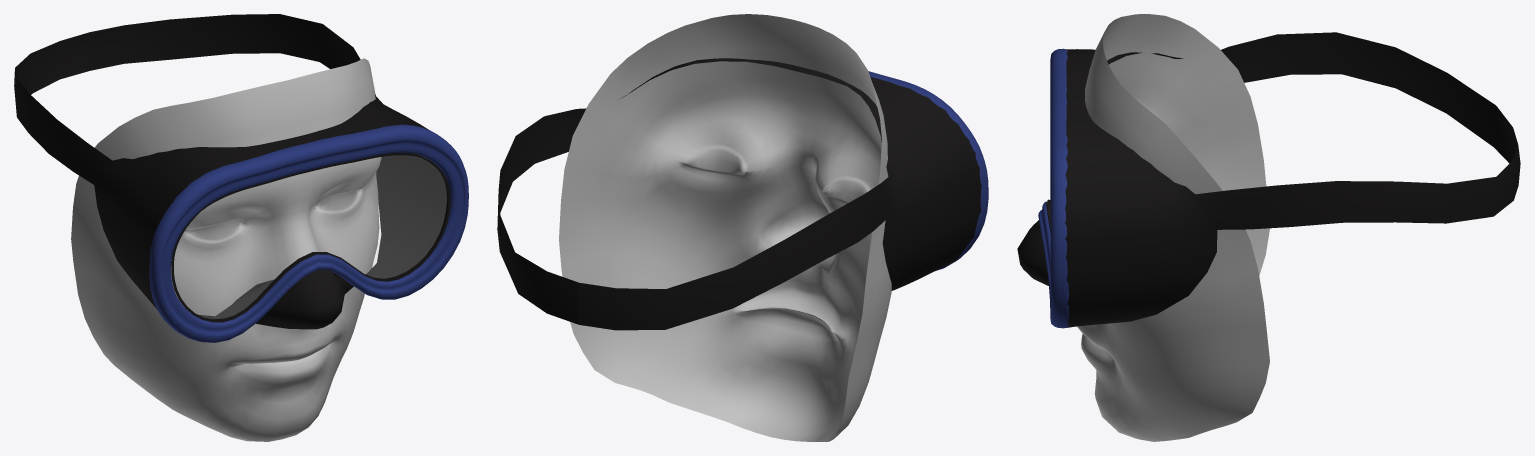
Rendered from snorkel_mask_for_spark_ar.glb.
3 views of the same model, side by side, from view 1: azimuth 30°, elevation 25°; view 2: azimuth 150°, elevation 25°; view 3: azimuth 270°, elevation 25° (orthographic). The views are drawn at different scales.
Visible parts, largest first — view 1: Mesh_lambert1_0, MSH_Nose, MSH_Glass, MSH_Color, MSH_Border; view 2: Mesh_lambert1_0, MSH_Nose, MSH_Color; view 3: MSH_Nose, Mesh_lambert1_0, MSH_Color.
Boxes of the visible parts, <box> form: Mesh_lambert1_0: <box>71,58,381,441</box>; MSH_Nose: <box>14,14,446,329</box>; MSH_Glass: <box>174,155,446,318</box>; MSH_Color: <box>149,124,468,342</box>; MSH_Border: <box>171,152,450,322</box>; Mesh_lambert1_0: <box>559,14,891,441</box>; MSH_Nose: <box>497,58,981,330</box>; MSH_Color: <box>868,71,988,270</box>; MSH_Nose: <box>1017,32,1520,327</box>; Mesh_lambert1_0: <box>1077,14,1269,441</box>; MSH_Color: <box>1038,48,1069,328</box>.
Size of the model in its own units: 1.85 by 2.08 by 2.45.
